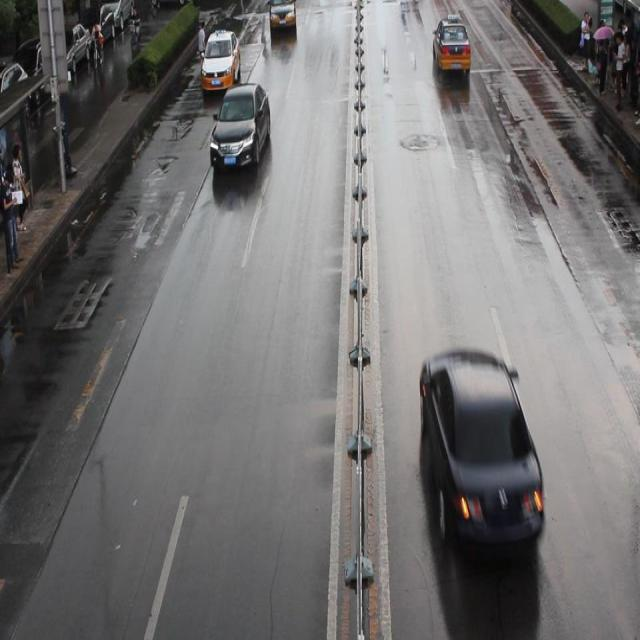car: (416, 347, 544, 551), (209, 80, 270, 176), (200, 26, 240, 90), (430, 15, 471, 73), (268, 1, 296, 31)
